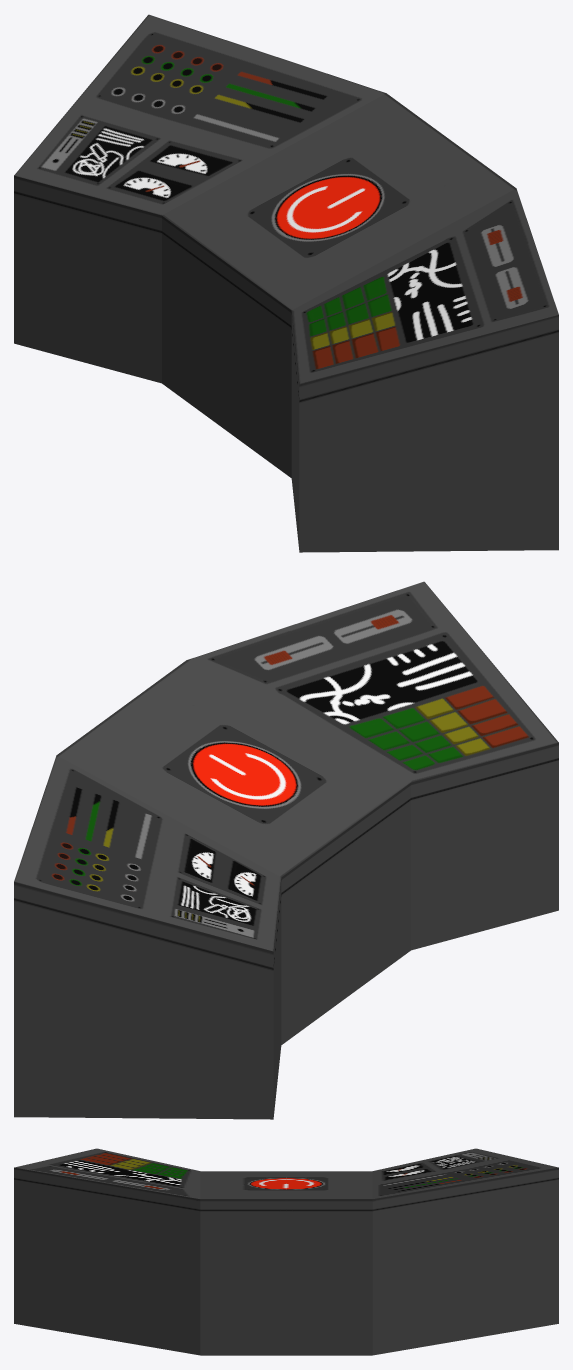
File: Console.fbx
The picture shows the model from 3 angles, top to bottom: view 1: azimuth 30°, elevation 25°; view 2: azimuth 150°, elevation 25°; view 3: azimuth 270°, elevation 25°; orthographic projection. The views are drawn at different scales.
Visible parts, largest first — view 1: Cube; view 2: Cube; view 3: Cube.
Boxes of the visible parts, x1,y1,x2,y2 form: Cube: [14, 14, 558, 552]; Cube: [14, 581, 558, 1119]; Cube: [14, 1148, 558, 1355].
Size of the model in its own units: 262 by 200 by 632.
